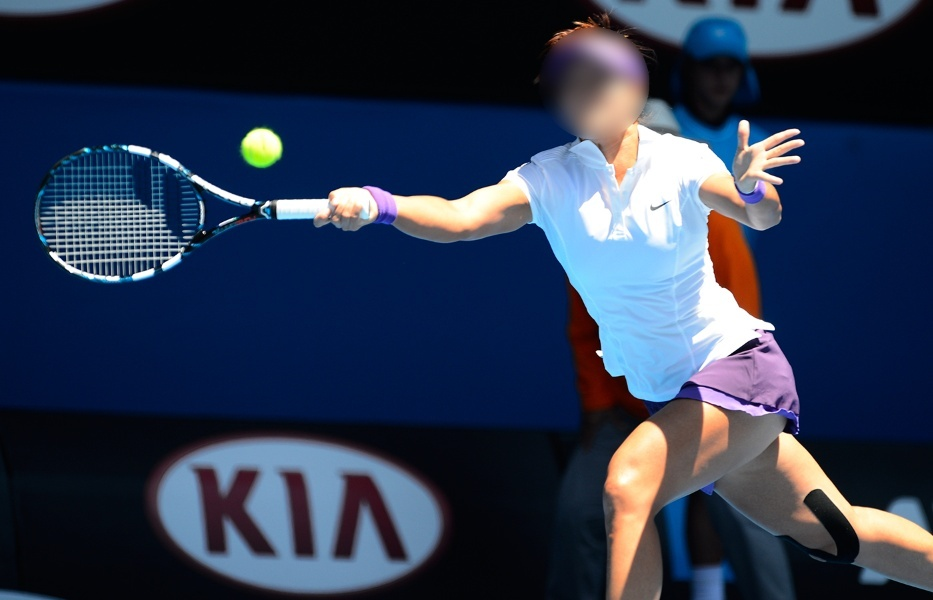text: (193, 458, 208, 569), (209, 458, 224, 569), (225, 458, 240, 569), (241, 458, 256, 569), (257, 458, 272, 569), (273, 458, 288, 569), (289, 458, 304, 569), (305, 458, 320, 569), (321, 458, 336, 569), (337, 458, 352, 569), (353, 458, 368, 569), (369, 458, 384, 569), (385, 458, 400, 569), (401, 458, 416, 569), (190, 458, 192, 569)
